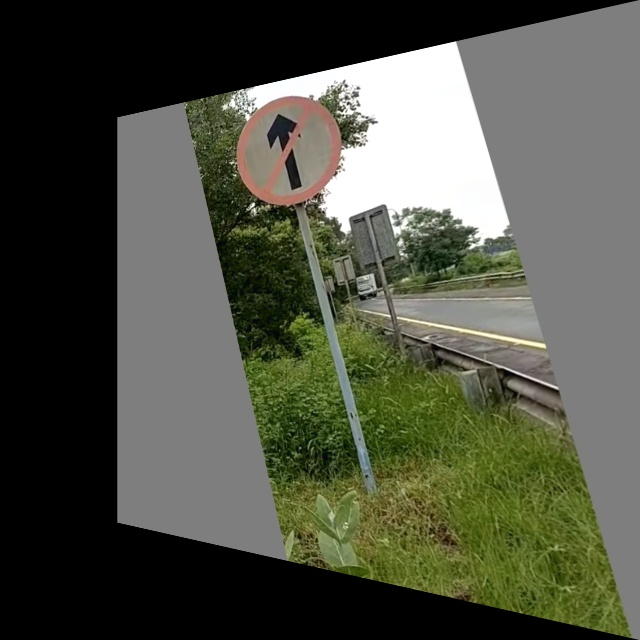No_Entry: (226, 70, 354, 221)
